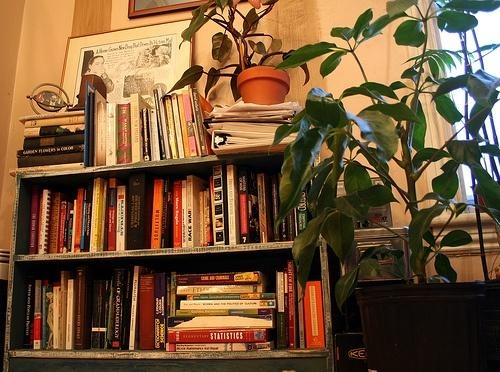pottedplant: (297, 1, 500, 371), (181, 1, 299, 110)
